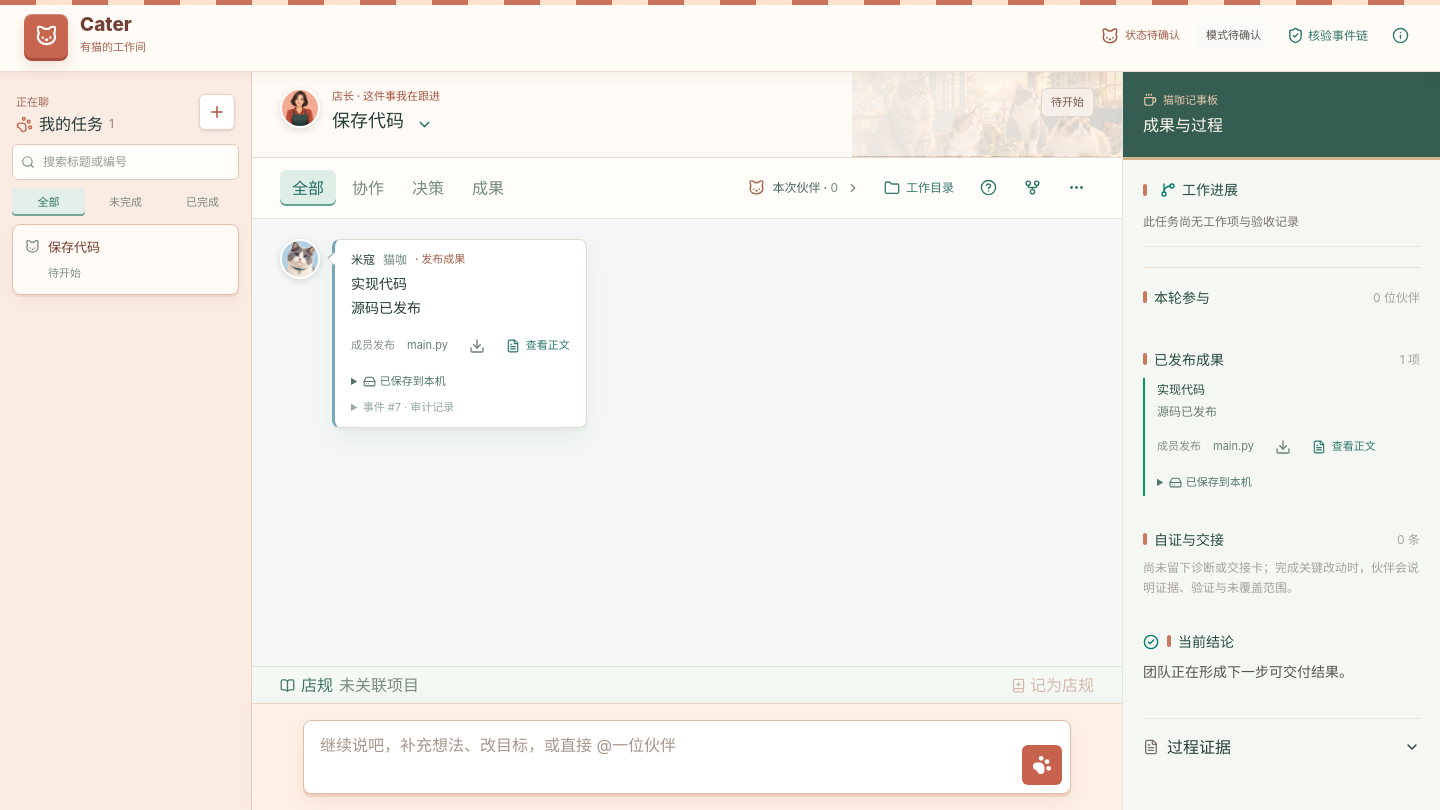
Test: 轮询收到失败回执后聊天与侧栏同步移除成功路径，草稿与正文保留
The image size is (1440, 810).
Expected: the number of headings "已保存到本机" is 2, [363, 374, 446, 388]; [1169, 474, 1252, 489]
In the text box named "向团队发送消息": (663, 757) [312, 729, 1014, 785], type "继续检查功能"
Wait 4000 ms
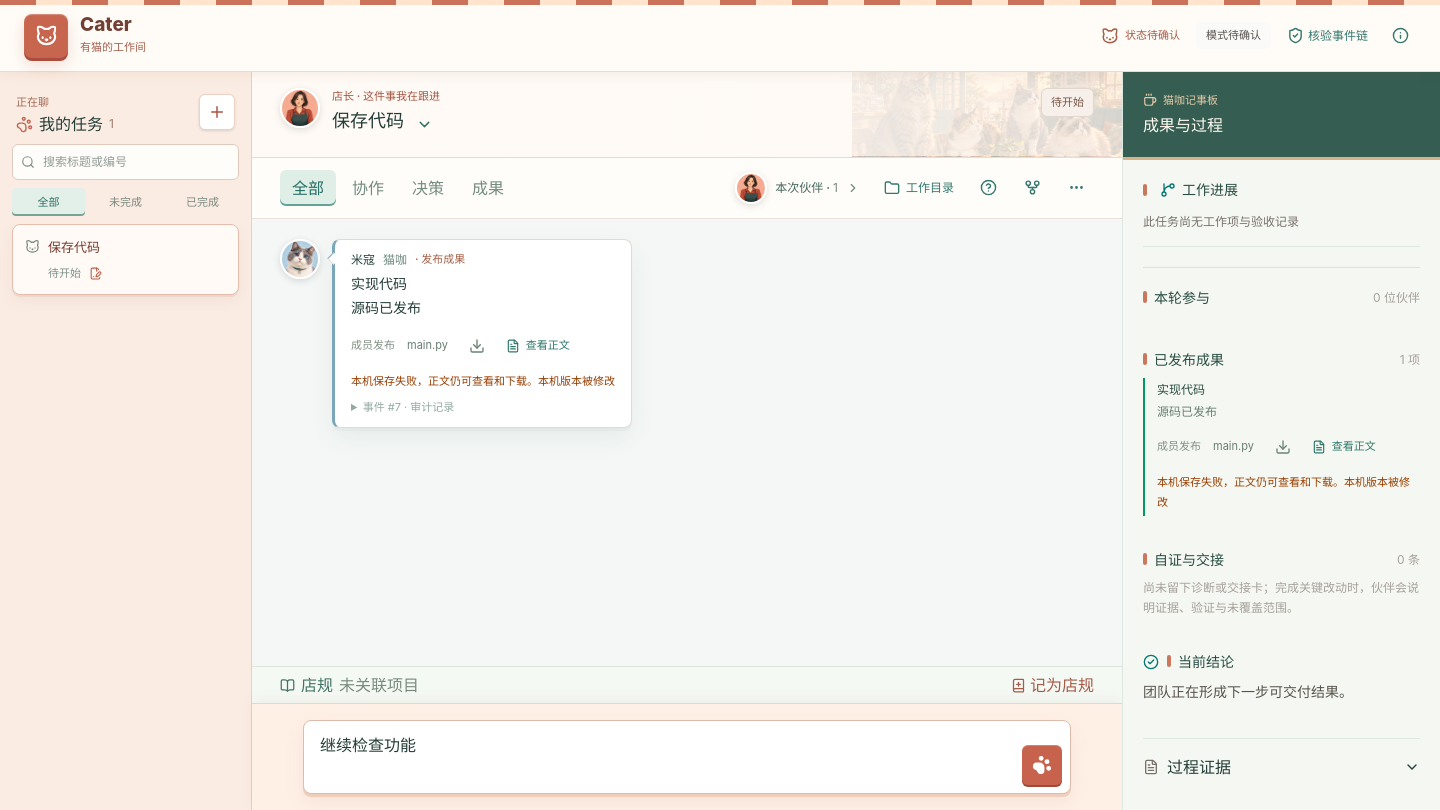
Expected: the number of buttons "查看正文" is 2, [506, 337, 570, 354]; [1312, 438, 1376, 455]
Now the heading "已保存到本机" is gone
Now the text "本机保存失败，正文仍可查看和下载。本机版本被修改" is shown 2 times, box [351, 370, 615, 390]; [1157, 472, 1420, 512]
